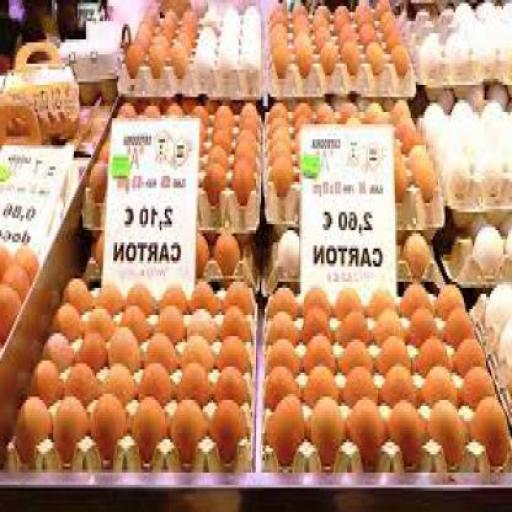biodegradable: (470, 388, 511, 465), (266, 388, 308, 460), (346, 391, 388, 457), (93, 388, 130, 460), (16, 392, 54, 460), (388, 394, 428, 458), (429, 400, 469, 464), (212, 394, 251, 458), (54, 394, 92, 458), (172, 397, 210, 461), (133, 394, 170, 458), (313, 394, 345, 460), (384, 358, 422, 403), (62, 358, 99, 403), (218, 361, 255, 406), (426, 361, 463, 406), (108, 324, 144, 370), (32, 355, 64, 406), (139, 361, 174, 406), (411, 142, 438, 200), (179, 358, 216, 400), (378, 334, 415, 376), (372, 309, 410, 348), (266, 333, 303, 373), (486, 278, 511, 337), (266, 364, 301, 406), (346, 367, 383, 406), (105, 361, 137, 406), (306, 364, 340, 406), (433, 278, 467, 320), (343, 333, 378, 373), (463, 364, 495, 406), (404, 230, 433, 276), (122, 300, 156, 339), (476, 221, 505, 266), (45, 328, 76, 370), (184, 330, 216, 370), (304, 330, 336, 370), (420, 330, 452, 370), (2, 278, 24, 336), (54, 297, 84, 339), (148, 328, 178, 370), (402, 276, 432, 318), (268, 306, 300, 345), (187, 303, 218, 342), (304, 306, 335, 345), (342, 309, 373, 348), (445, 306, 476, 345), (78, 330, 110, 367), (158, 304, 185, 346), (456, 336, 486, 373), (436, 278, 466, 315), (452, 94, 476, 140), (192, 276, 220, 315), (216, 230, 242, 272), (14, 242, 41, 282), (278, 227, 300, 276), (270, 278, 299, 315), (231, 158, 256, 200), (4, 257, 30, 297), (273, 151, 299, 191), (66, 273, 92, 312), (206, 157, 231, 197), (412, 302, 438, 340), (222, 334, 252, 366), (86, 303, 115, 336), (225, 279, 256, 309), (395, 112, 420, 149), (304, 282, 335, 311), (98, 279, 125, 312), (478, 136, 504, 170), (170, 36, 192, 76), (148, 36, 170, 76), (445, 140, 474, 169), (129, 279, 160, 306), (426, 100, 447, 139), (216, 34, 241, 66), (226, 303, 252, 333), (336, 288, 362, 318), (164, 285, 190, 314), (276, 36, 294, 76), (127, 40, 146, 76), (343, 36, 363, 70), (445, 27, 472, 52), (371, 287, 397, 312), (196, 40, 216, 72), (298, 30, 314, 70), (382, 22, 404, 51), (214, 100, 236, 128), (238, 124, 260, 152), (240, 100, 262, 128), (242, 37, 263, 66), (198, 230, 213, 270), (392, 43, 412, 73), (422, 27, 444, 54), (92, 158, 106, 200), (136, 18, 153, 52), (323, 36, 340, 70), (213, 122, 235, 148), (472, 22, 494, 48), (503, 96, 511, 167), (244, 4, 263, 33), (200, 0, 226, 21), (340, 12, 359, 40), (208, 142, 229, 167), (237, 136, 258, 161), (367, 40, 387, 66), (469, 209, 490, 233), (192, 97, 212, 121), (484, 97, 504, 121), (342, 97, 364, 118), (390, 97, 409, 121), (181, 18, 196, 48), (501, 314, 511, 359), (316, 18, 331, 48), (334, 0, 350, 27), (360, 18, 378, 42), (295, 109, 315, 130), (272, 139, 294, 158), (146, 3, 162, 28), (270, 3, 289, 24), (457, 0, 476, 21), (158, 18, 176, 40), (268, 112, 290, 130), (270, 94, 292, 112), (397, 161, 407, 200), (496, 21, 512, 45), (272, 121, 292, 140), (221, 0, 242, 18), (477, 0, 498, 18), (200, 24, 220, 42), (295, 97, 315, 115), (318, 100, 338, 118), (220, 18, 242, 34), (182, 3, 200, 22), (374, 0, 393, 18), (2, 242, 12, 276), (382, 9, 398, 30), (165, 97, 186, 112), (96, 230, 105, 264), (273, 22, 288, 42), (358, 0, 372, 21), (503, 212, 511, 248), (296, 9, 311, 28), (167, 0, 180, 21), (370, 100, 384, 118), (314, 6, 330, 21), (102, 134, 110, 160), (122, 100, 138, 112), (503, 0, 511, 20), (146, 100, 159, 112), (396, 140, 406, 154), (476, 106, 484, 122), (202, 118, 210, 133), (201, 136, 206, 152)
